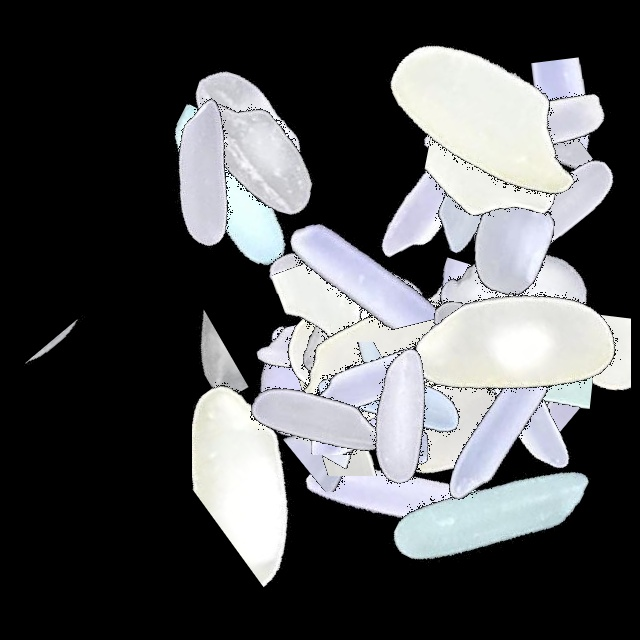Broken: (390, 68, 640, 241), (356, 282, 526, 532), (448, 55, 617, 305), (282, 259, 447, 509), (282, 126, 446, 376), (249, 246, 405, 496), (390, 296, 640, 451), (192, 338, 347, 588), (391, 210, 531, 460), (361, 220, 494, 470), (496, 0, 627, 250), (467, 59, 595, 309), (211, 342, 461, 469), (344, 305, 594, 423), (272, 191, 388, 441), (516, 244, 631, 494), (227, 378, 477, 492), (245, 364, 495, 476), (480, 252, 588, 502), (211, 347, 461, 455), (46, 307, 296, 414), (315, 225, 565, 322), (20, 264, 115, 514), (237, 252, 487, 332)
Full: (179, 256, 429, 506), (289, 373, 539, 623), (107, 62, 357, 312), (120, 12, 370, 262), (236, 258, 486, 508), (214, 165, 464, 415), (390, 90, 640, 340), (390, 167, 640, 417), (326, 47, 576, 297), (219, 222, 469, 472), (261, 237, 511, 487), (349, 58, 599, 308), (239, 201, 489, 451), (360, 283, 610, 533), (390, 111, 640, 361), (362, 387, 612, 637), (131, 33, 381, 283), (390, 0, 640, 250), (82, 49, 332, 299), (254, 247, 504, 497), (358, 0, 608, 250), (390, 265, 640, 515), (265, 272, 515, 522), (277, 250, 527, 500), (380, 287, 630, 537), (390, 227, 640, 477)
